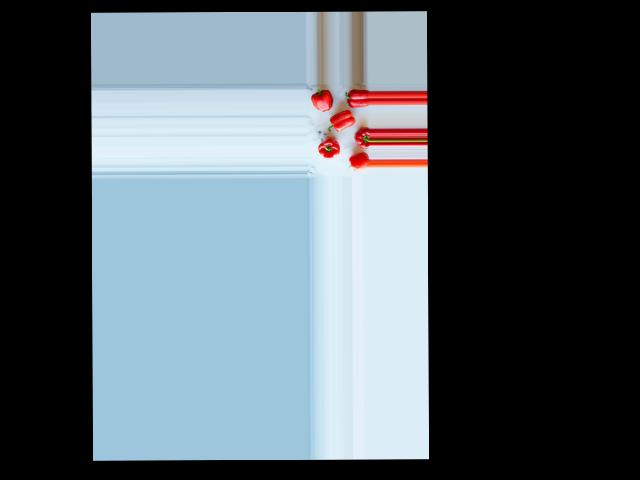bell_pepper: (353, 126, 369, 148)
